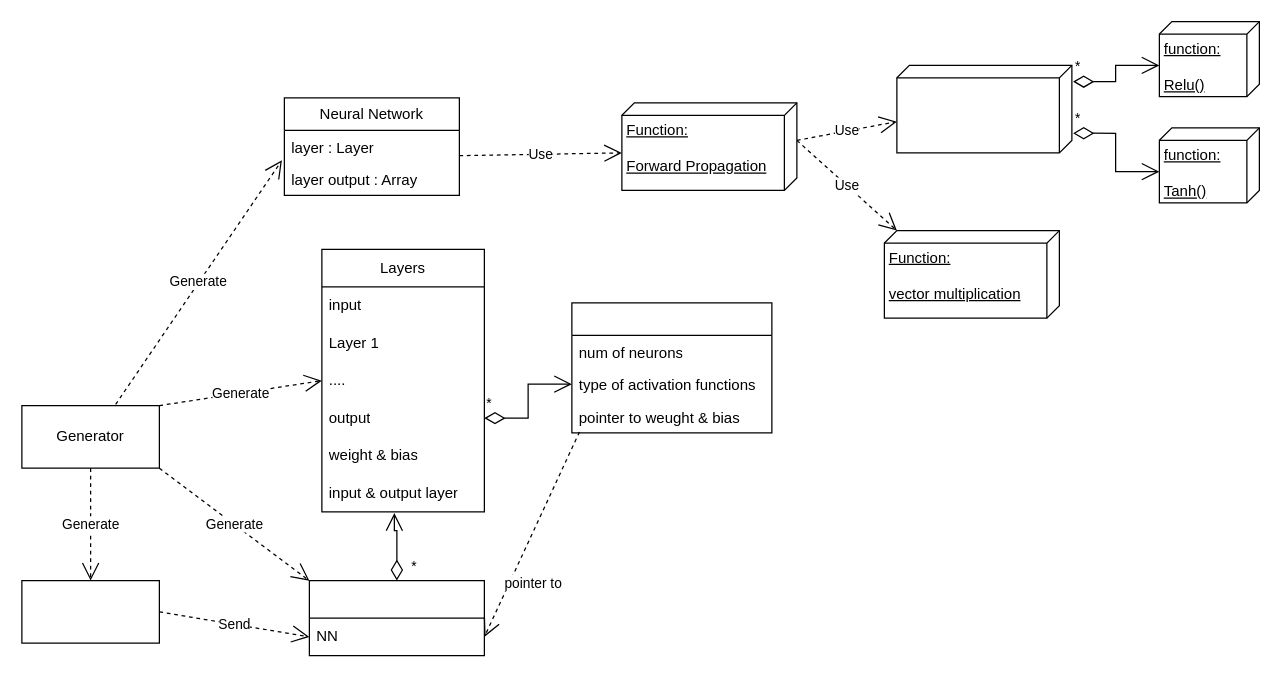
This 1281x679 diagram has some shape labels left out. The shapes that lost their labels are listed below. From the top down, each one's box as (x1, y1, x2, y2) in pixels, then its label:
(896, 64, 1072, 153): Function: ActivationFunction
(571, 302, 772, 433): Layer
(21, 579, 159, 643): Pyads
(308, 579, 484, 656): GVL_NN
